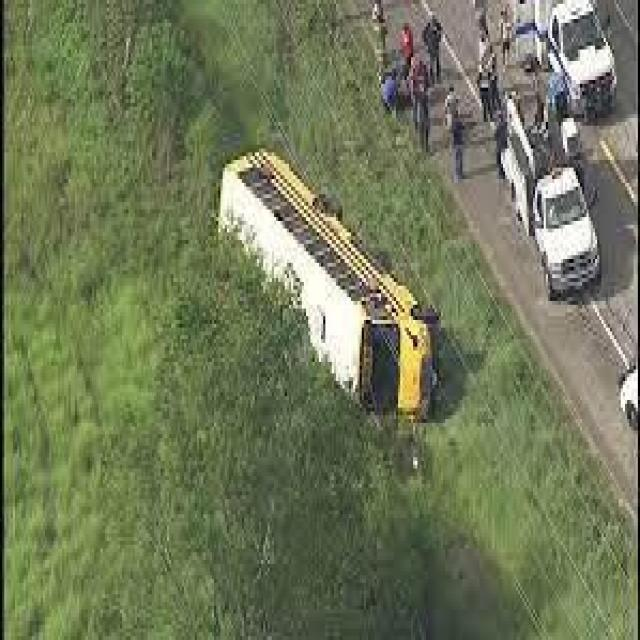severe: (215, 135, 442, 425)
